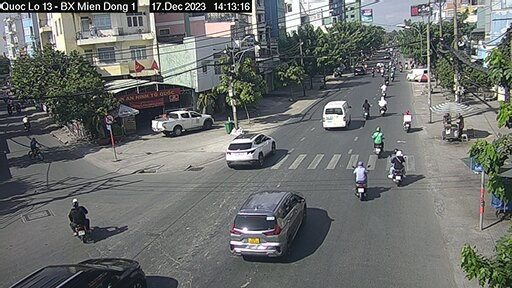car: (227, 188, 306, 259), (226, 130, 277, 169), (150, 108, 214, 138), (319, 98, 353, 133)
motorbike: (67, 196, 99, 244), (350, 163, 370, 204), (388, 150, 411, 183), (371, 126, 385, 157), (374, 92, 390, 116), (362, 96, 373, 120), (401, 111, 413, 132)
